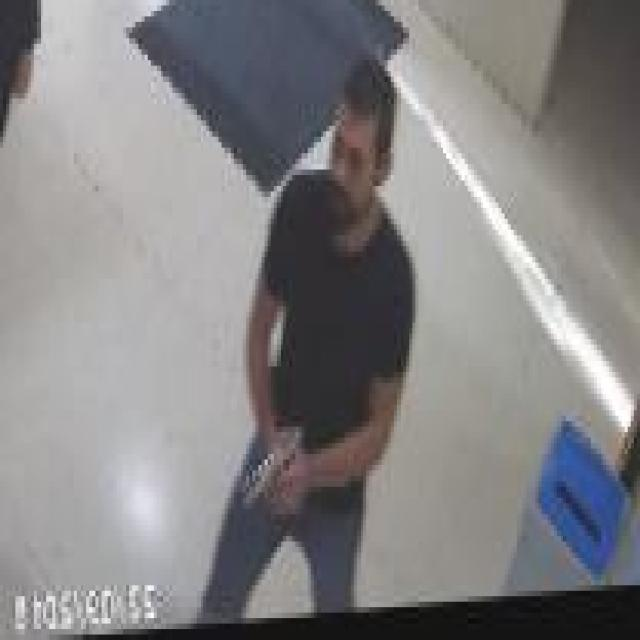Guns: (234, 392, 321, 517)
